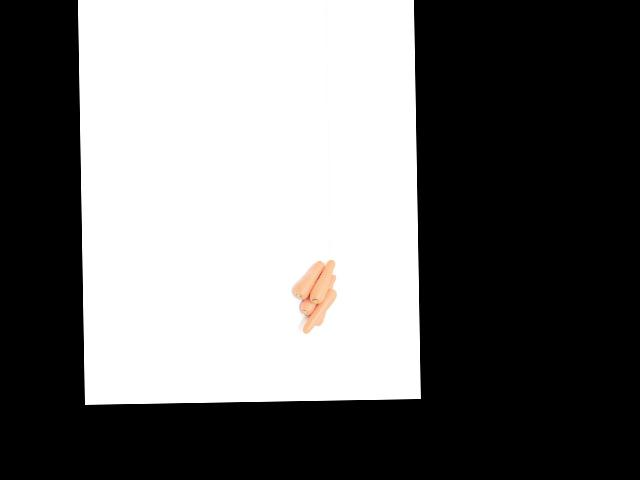carrot: (286, 259, 325, 305)
